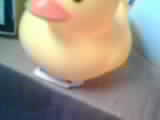duck: (19, 1, 134, 84)
